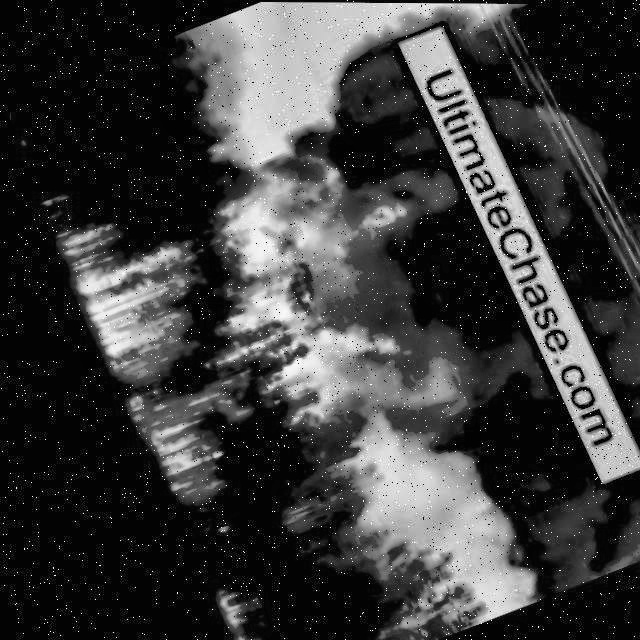Fire: (44, 124, 494, 514), (199, 579, 273, 640)
Smoke: (288, 32, 624, 599), (442, 3, 640, 540)
